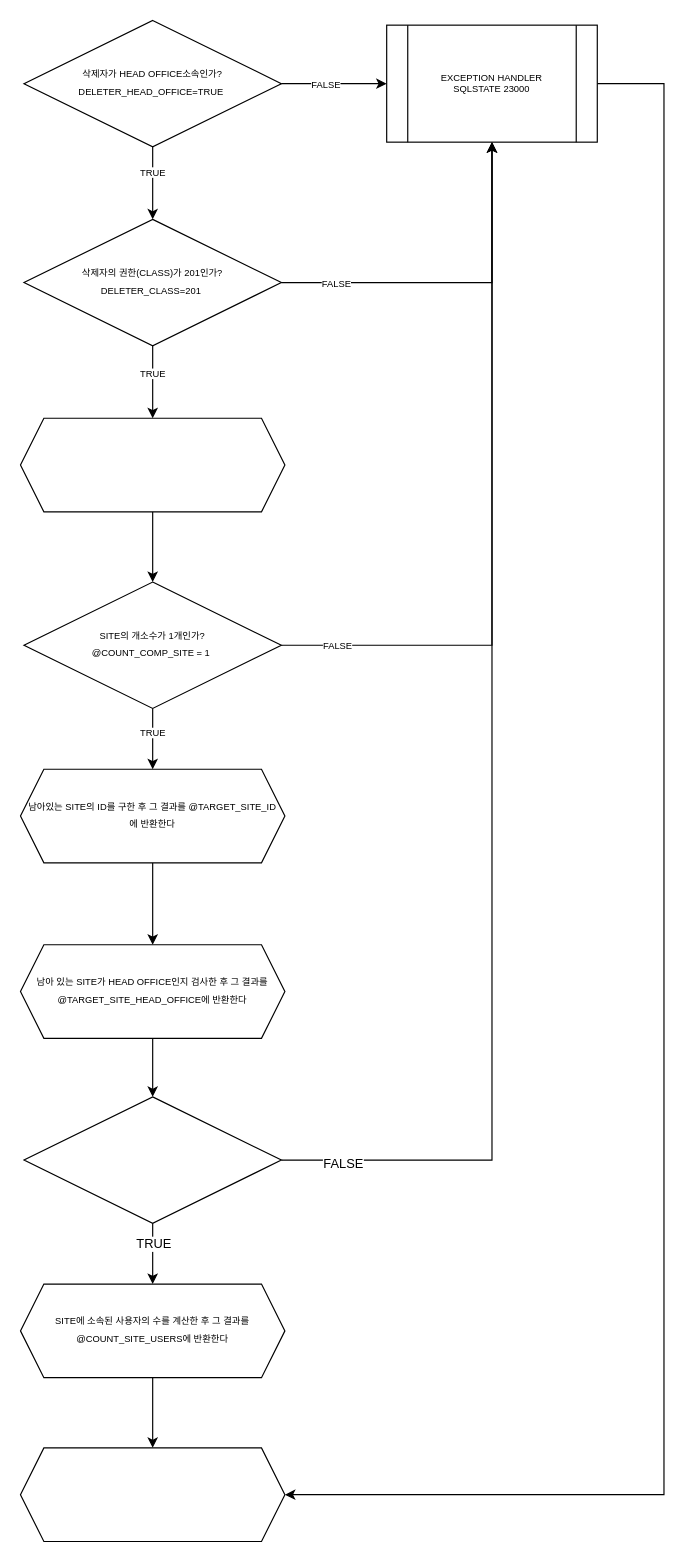
The diagram is 694 pixels wide and 1562 high, and some of its shapes have lost their labels. Each missing label, with the centre of its shape:
"@rtn_val, @msg_txt 반환" goes at point 152,1494.
"남아 있는 SITE가 HEAD OFFICE? @ TARGET _SITE_HEAD_OFFICE = TRUE" goes at point 152,1159.
"사업자에 소속된 SITE의 개소수를 검사한 후 그 결과를 @COUNT_COMP_SITE에 반환한다" goes at point 152,464.
